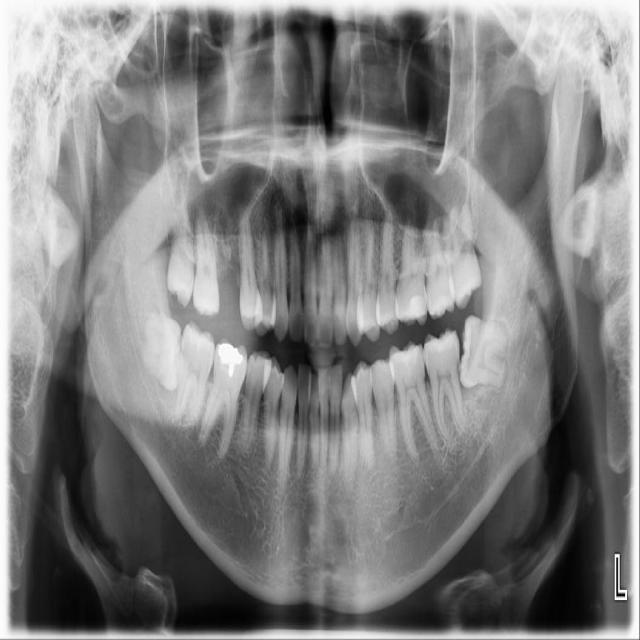Filling: (217, 343, 244, 379), (392, 345, 420, 370), (409, 289, 428, 322)
Missing teeth: (218, 261, 242, 325)
impacted tooth: (131, 297, 183, 388), (460, 315, 509, 392)
